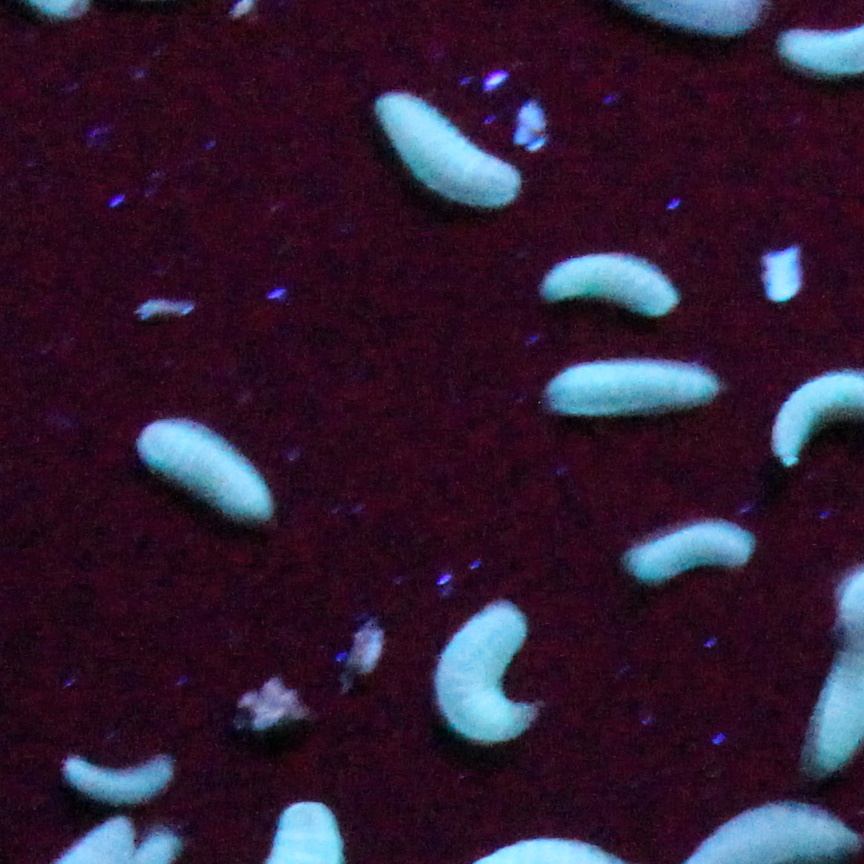larve: (376, 93, 516, 214), (139, 417, 269, 532), (424, 603, 531, 741), (540, 351, 713, 418), (612, 515, 751, 580), (540, 255, 673, 311), (58, 755, 177, 802)
